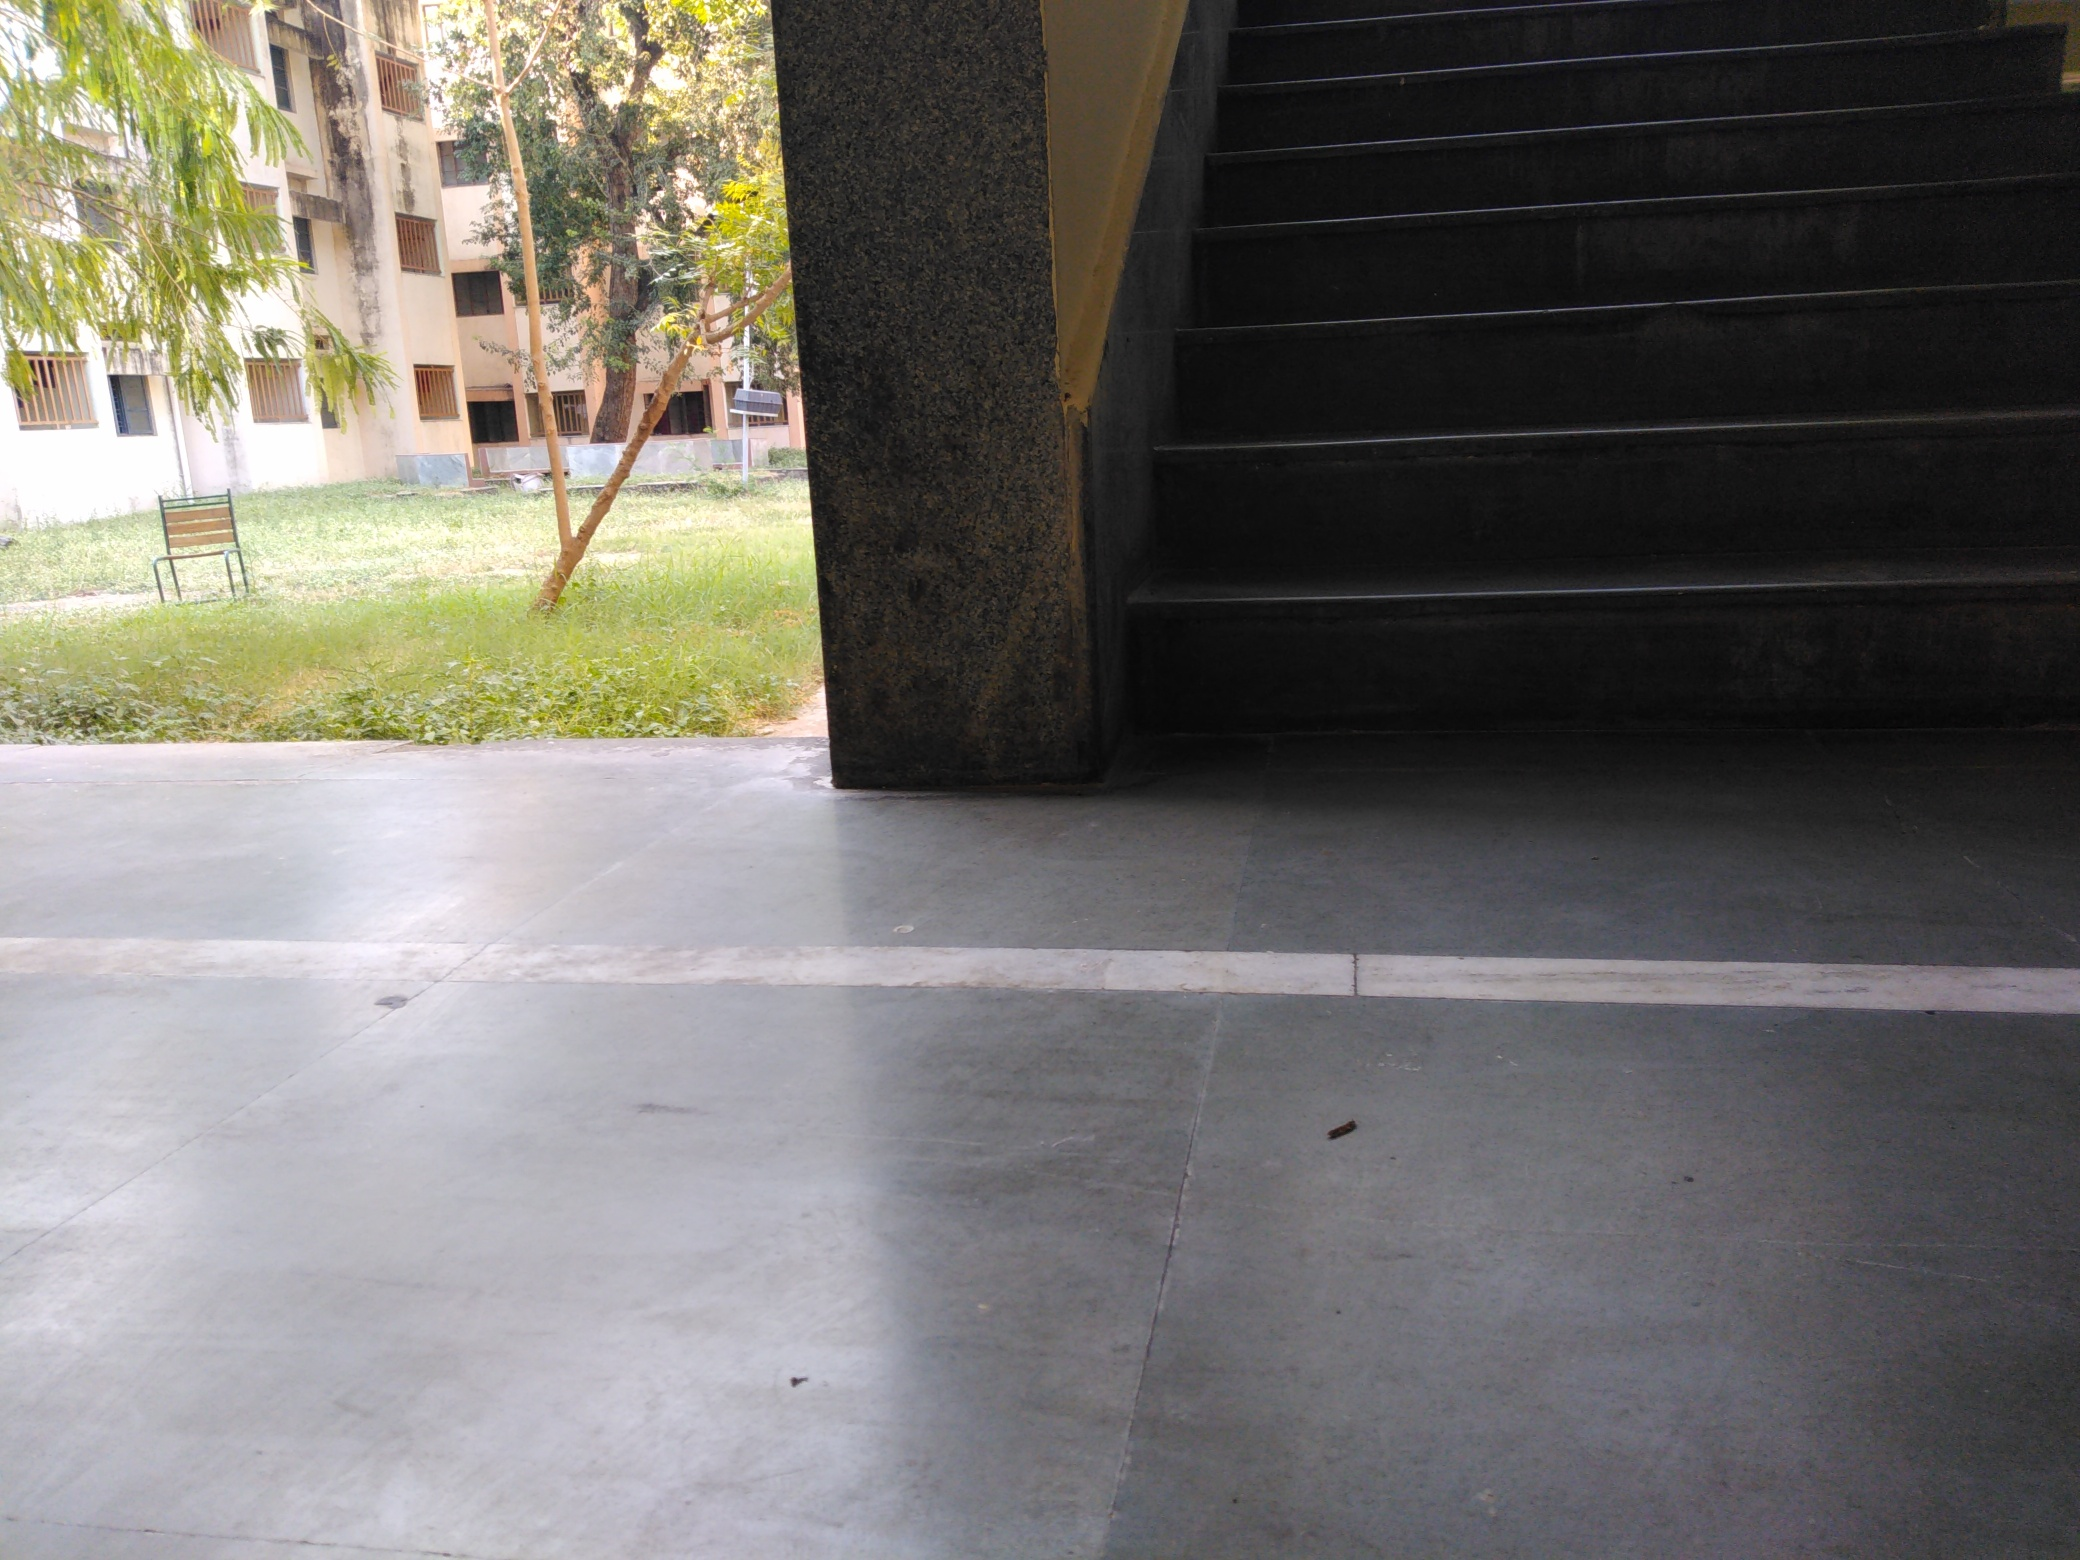stairs_up: (1127, 26, 2080, 759)
